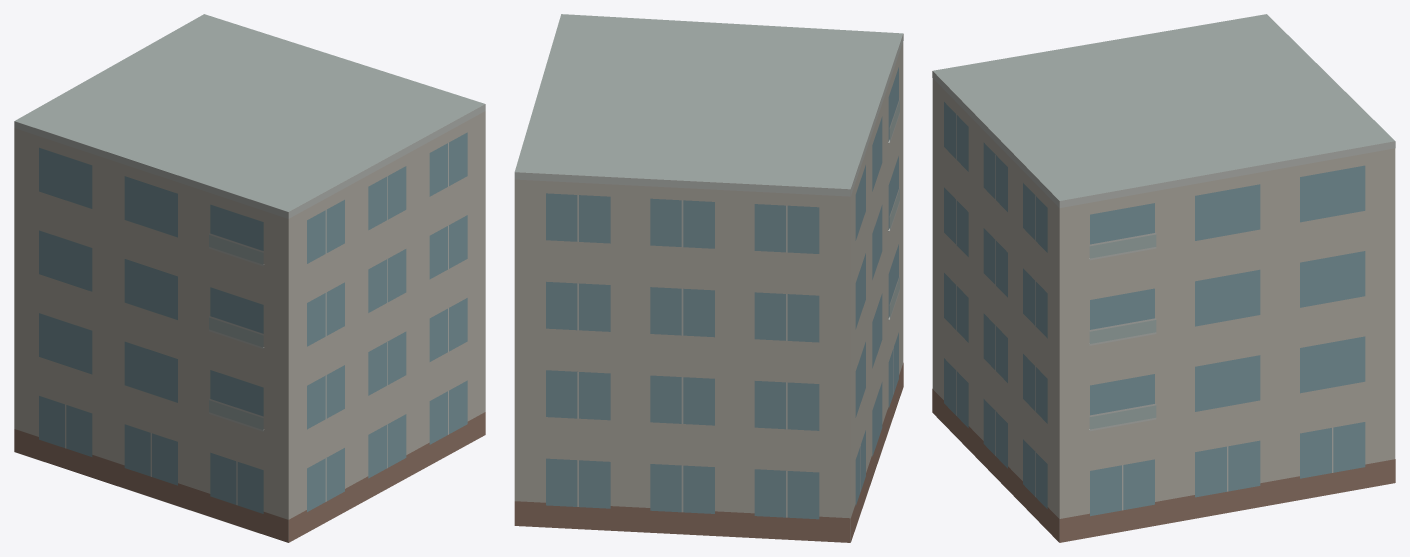
File: survey-upis-32853082.glb
3 views of the same model, side by side, from view 1: azimuth 30°, elevation 25°; view 2: azimuth 150°, elevation 25°; view 3: azimuth 270°, elevation 25° (orthographic). The views are drawn at different scales.
Parts seen in each view (by area): view 1: survey-upis-32853082.tmp; view 2: survey-upis-32853082.tmp; view 3: survey-upis-32853082.tmp.
Part boxes in pixels (x1,y1,x2,y2): survey-upis-32853082.tmp: (14, 14, 485, 542); survey-upis-32853082.tmp: (514, 14, 903, 542); survey-upis-32853082.tmp: (932, 14, 1395, 542).
Size of the model in its own units: 13.8 by 11.75 by 14.43.
